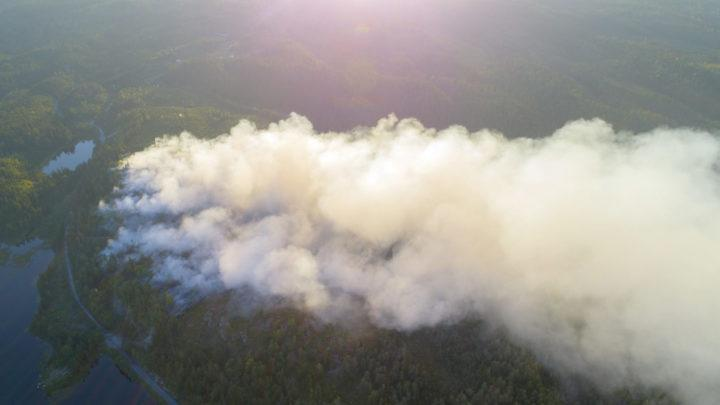smoke: (94, 110, 717, 402)
